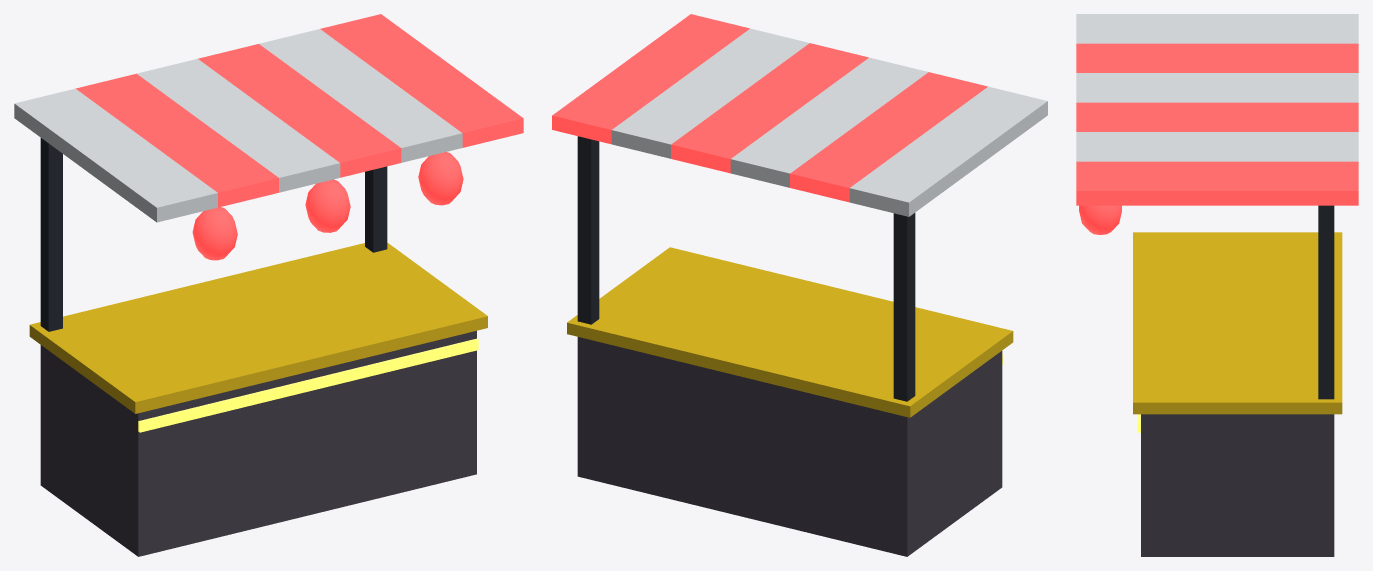
Rendered from nc_food_stall.glb.
3 views of the same model, side by side, from view 1: azimuth 30°, elevation 25°; view 2: azimuth 150°, elevation 25°; view 3: azimuth 270°, elevation 25° (orthographic). The views are drawn at different scales.
Visible parts, largest first — view 1: nc_food_stall; view 2: nc_food_stall; view 3: nc_food_stall.
Boxes of the visible parts, <box> form: nc_food_stall: <box>14,14,523,556</box>; nc_food_stall: <box>552,14,1047,556</box>; nc_food_stall: <box>1076,14,1358,556</box>.
Bounding box in the file's own units: 2.6 × 2.55 × 1.75.
